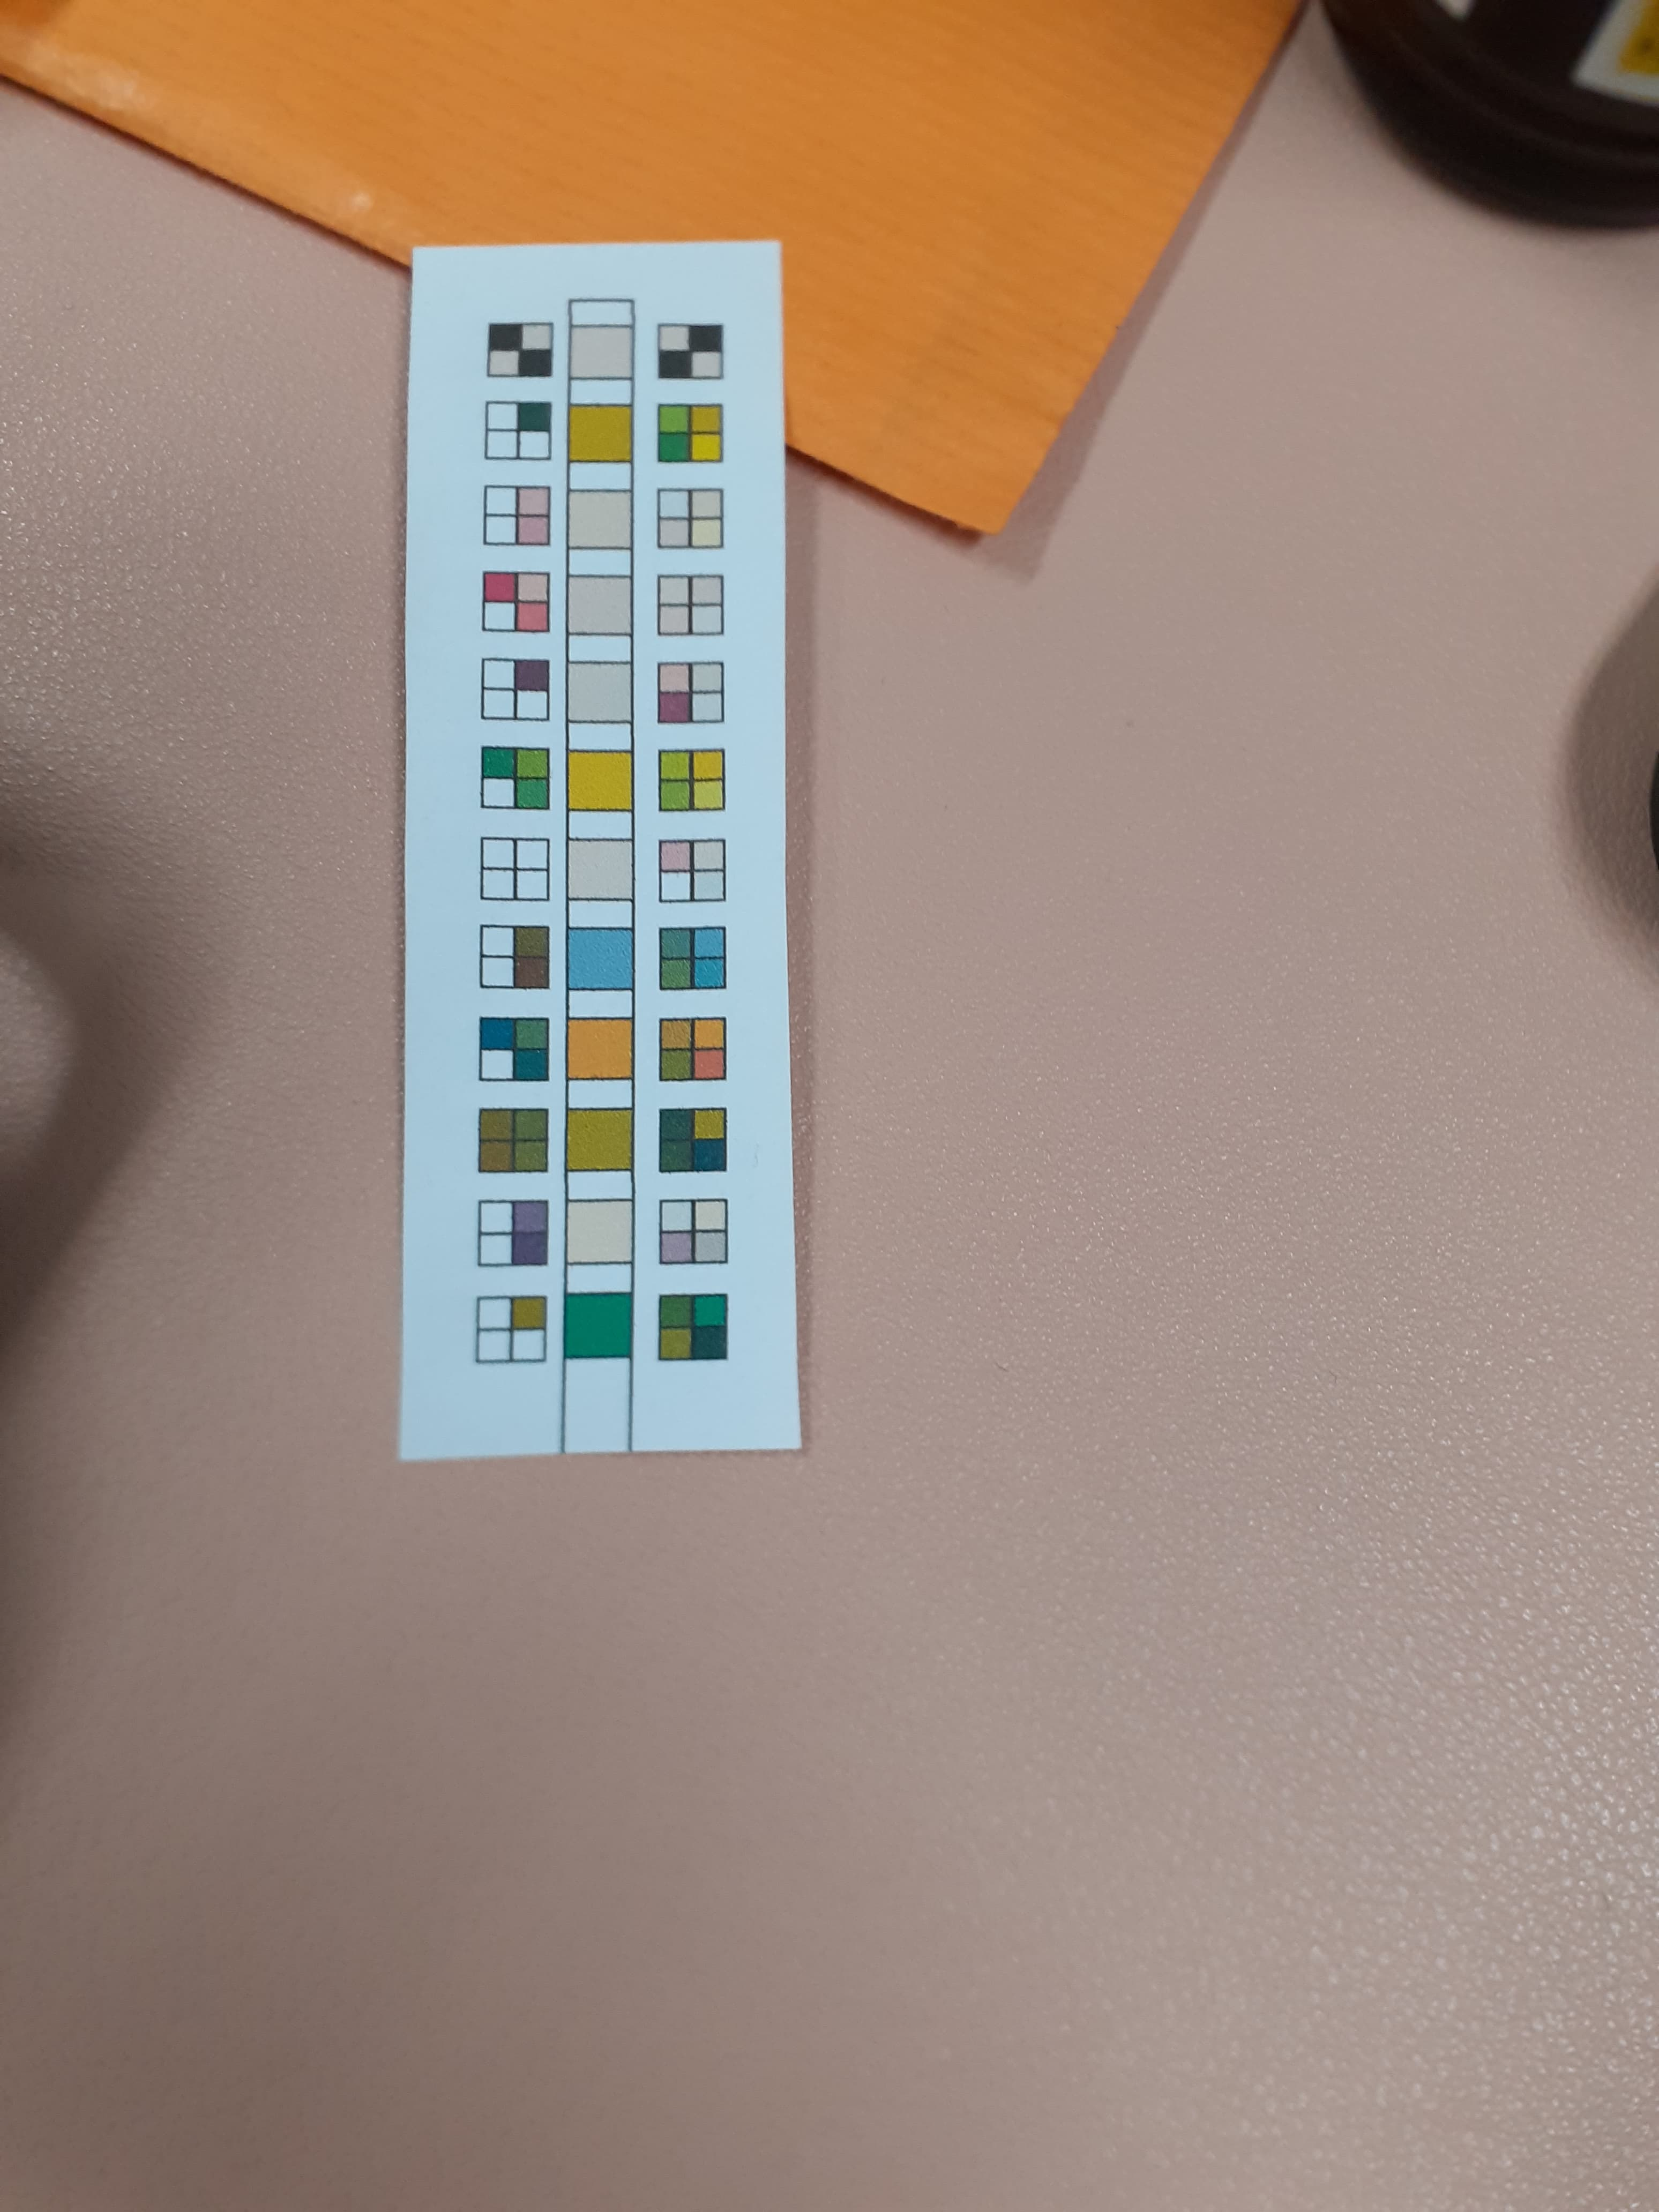tester: (411, 247, 803, 1460)
